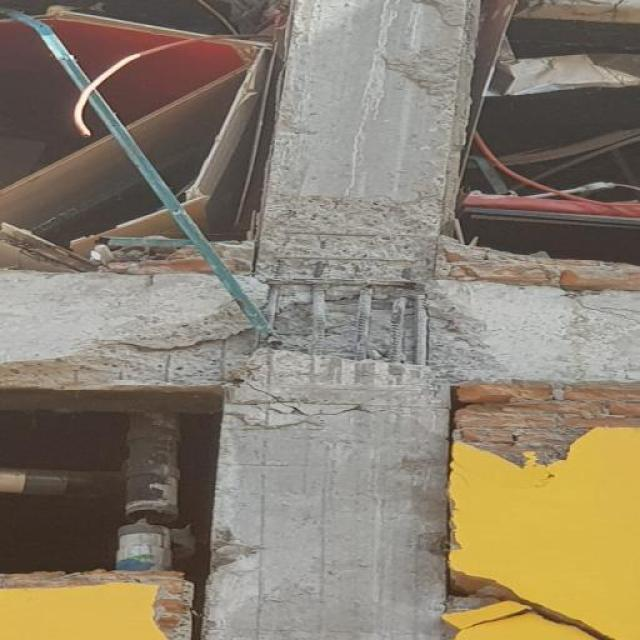D0w0: (56, 190, 452, 391)
